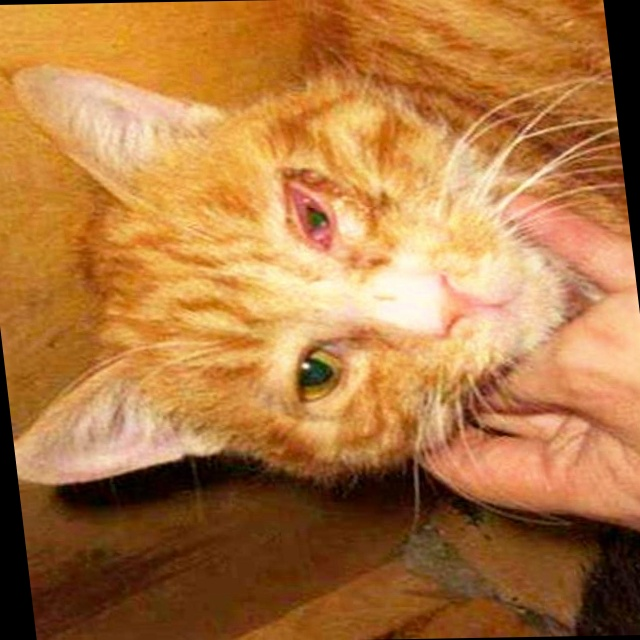eye_infection: (280, 178, 345, 251), (287, 338, 351, 400)
